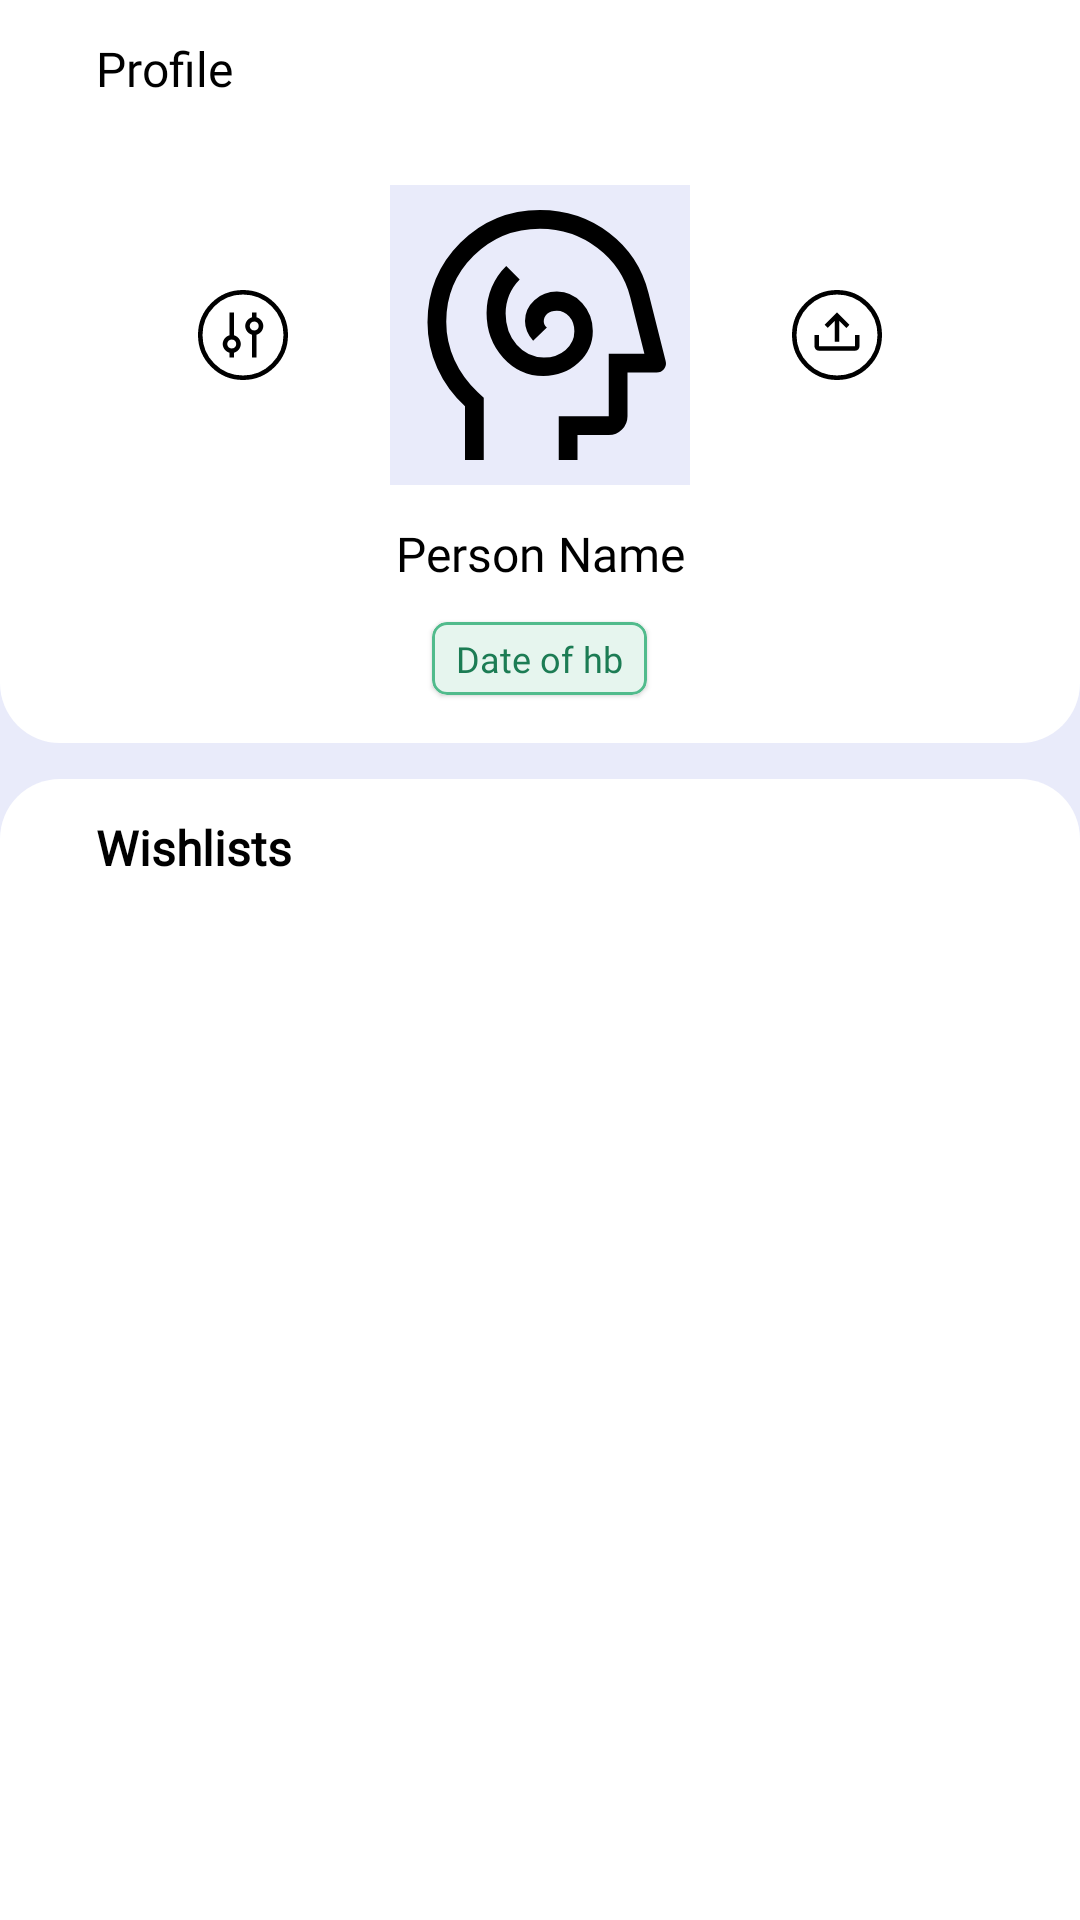

Point at icon controls on the screen. Image size 1080px×1920px, points as (x,y).
settings: (243,335)
share: (837,335)
